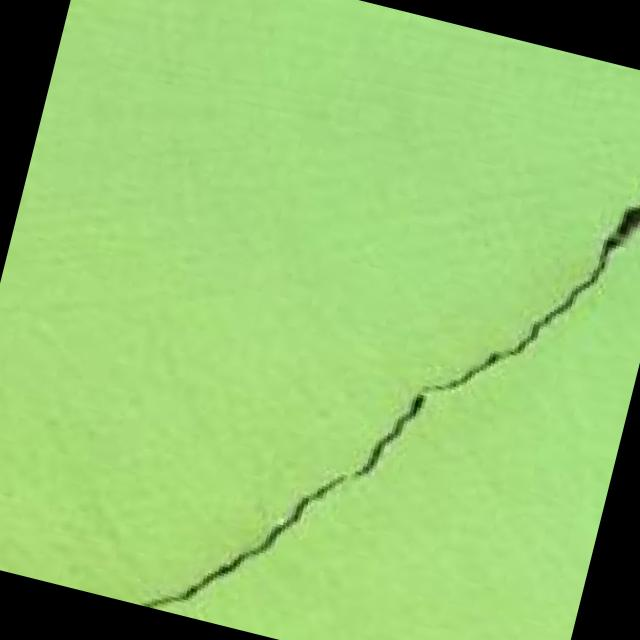crack: (134, 73, 640, 640)
